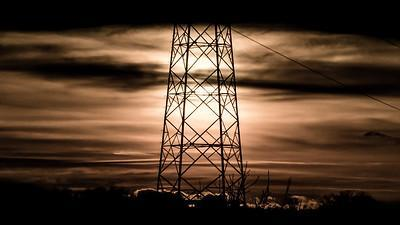power_tower: (146, 20, 253, 202)
